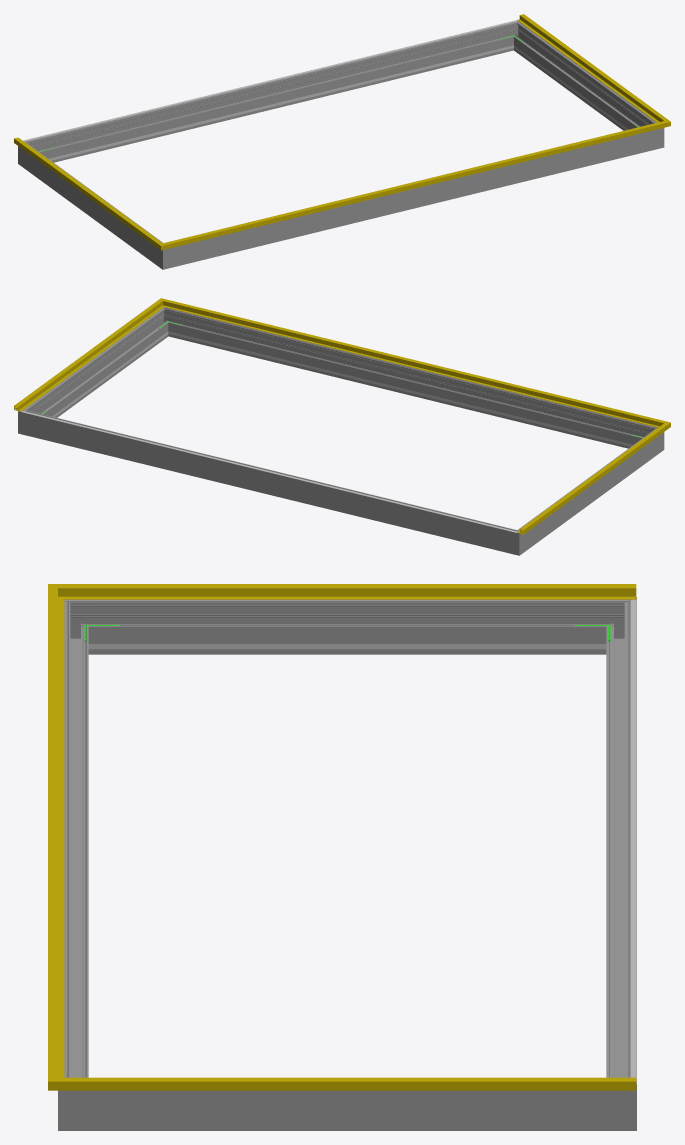
The picture shows the model from 3 angles, top to bottom: view 1: azimuth 30°, elevation 25°; view 2: azimuth 150°, elevation 25°; view 3: azimuth 270°, elevation 25°; orthographic projection. The views are drawn at different scales.
Parts seen in each view (by area): view 1: 3DGeom-276, 3DGeom-298, 3DGeom-297, 3DGeom-123, 3DGeom-268, 3DGeom-128, 3DGeom-244, 3DGeom-118, 3DGeom-220, 3DGeom-270; view 2: 3DGeom-298, 3DGeom-276, 3DGeom-123, 3DGeom-297, 3DGeom-268, 3DGeom-128, 3DGeom-239, 3DGeom-118, 3DGeom-220, 3DGeom-278, 3DGeom-284; view 3: 3DGeom-268, 3DGeom-297, 3DGeom-276, 3DGeom-298, 3DGeom-118, 3DGeom-123, 3DGeom-128, 3DGeom-220, 3DGeom-232, 3DGeom-284, 3DGeom-290, 3DGeom-278 (+1 smaller).
Boxes of the visible parts, box(x1,y1,x2,y2) form: 3DGeom-276: box(35, 24, 511, 162); 3DGeom-298: box(178, 132, 648, 265); 3DGeom-297: box(515, 27, 652, 130); 3DGeom-123: box(175, 124, 654, 246); 3DGeom-268: box(27, 147, 158, 262); 3DGeom-128: box(517, 14, 661, 120); 3DGeom-244: box(54, 49, 498, 159); 3DGeom-118: box(14, 137, 155, 243); 3DGeom-220: box(23, 20, 517, 141); 3DGeom-270: box(153, 239, 178, 269); 3DGeom-298: box(171, 310, 646, 448); 3DGeom-276: box(34, 413, 506, 551); 3DGeom-123: box(173, 302, 654, 425); 3DGeom-297: box(30, 313, 166, 417); 3DGeom-268: box(524, 433, 654, 548); 3DGeom-128: box(14, 305, 158, 411); 3DGeom-239: box(184, 335, 627, 445); 3DGeom-118: box(517, 428, 661, 534); 3DGeom-220: box(21, 411, 517, 532); 3DGeom-278: box(503, 525, 528, 555); 3DGeom-284: box(18, 405, 36, 437); 3DGeom-268: box(95, 599, 599, 654); 3DGeom-297: box(95, 1090, 599, 1130); 3DGeom-276: box(606, 612, 636, 1077); 3DGeom-298: box(64, 612, 88, 1077); 3DGeom-118: box(85, 584, 636, 599); 3DGeom-123: box(48, 599, 64, 1074); 3DGeom-128: box(85, 1077, 636, 1090); 3DGeom-220: box(631, 599, 636, 1083); 3DGeom-232: box(124, 644, 570, 649); 3DGeom-284: box(600, 1071, 636, 1130); 3DGeom-290: box(58, 1071, 94, 1130); 3DGeom-278: box(600, 597, 636, 654).
Bounding box in the file's own units: 4.88 × 0.2434 × 2.44.
